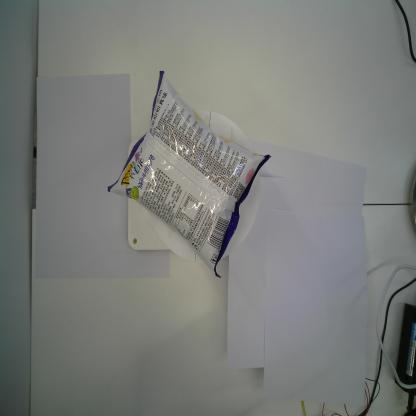Puffed Food: (106, 68, 273, 279)
